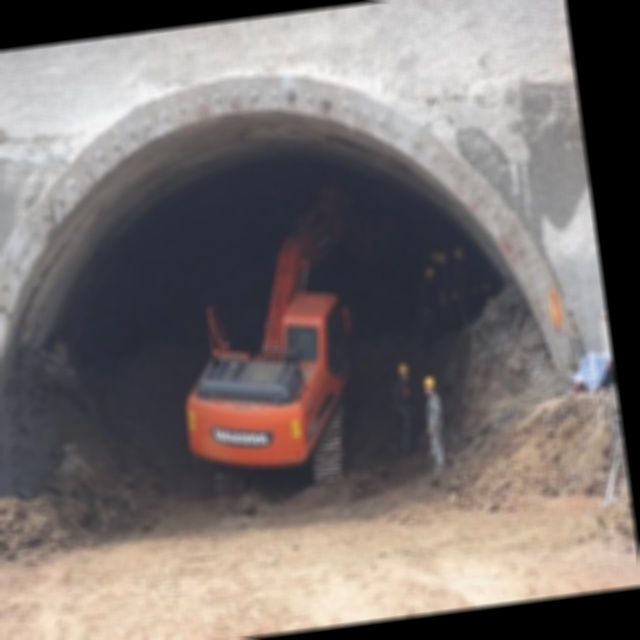Con_Casco: (422, 375, 436, 397), (397, 361, 410, 383)
